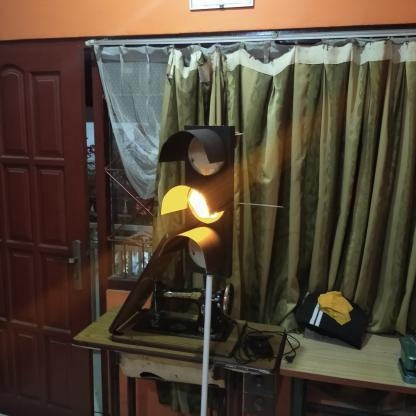yellow: (160, 127, 233, 280)
